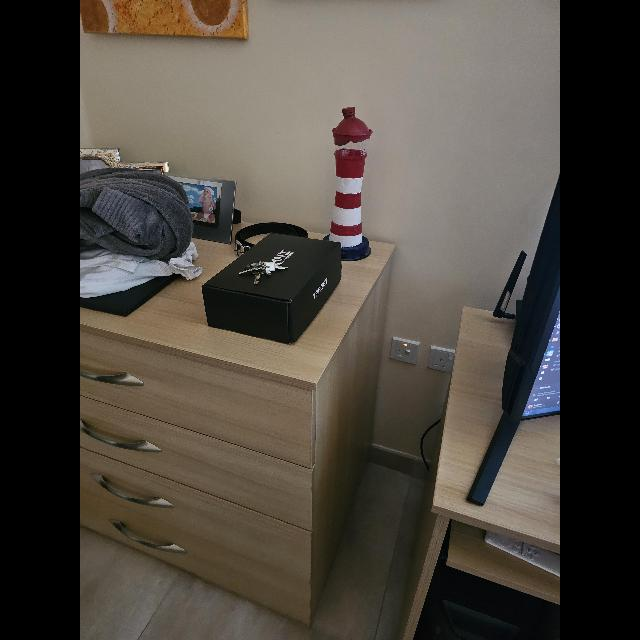Keys: (238, 260, 274, 286)
